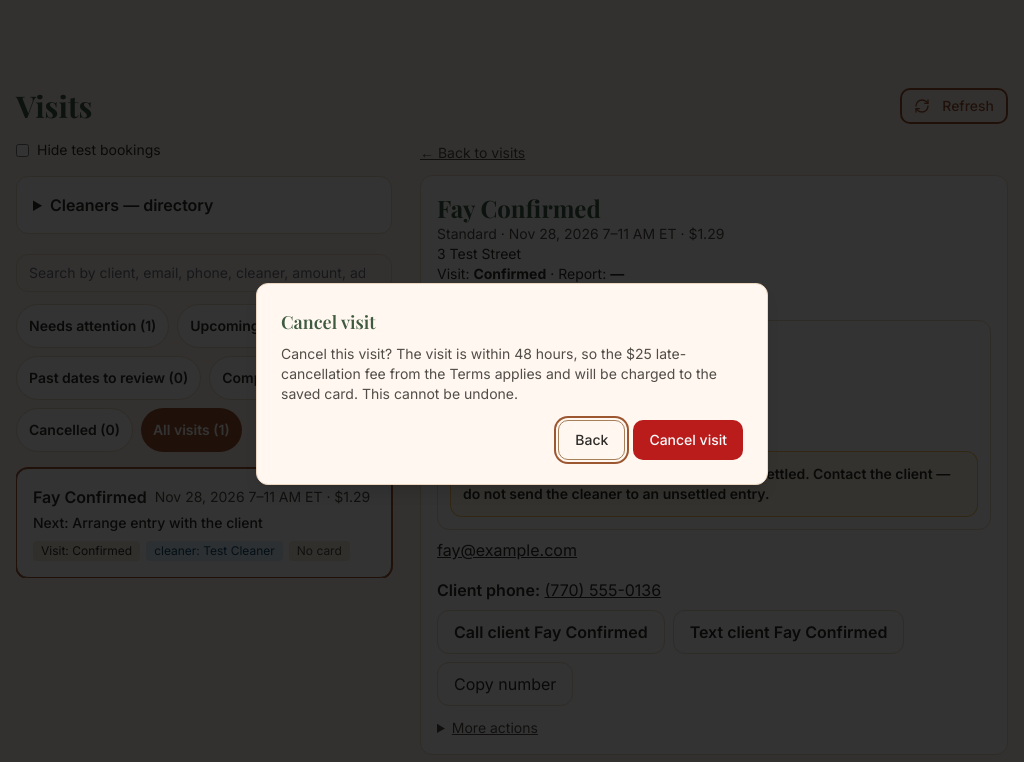
Scenario: owner cancel visit dialog › shows the $25 late fee inside 48 hours before confirming
Earlier steps of the test are not shown.
Expected: the text "$25 late-cancellation fee" is shown, top-left (281, 345), bottom-right (717, 402)
Step 1. Click the button "Cancel visit" → click(688, 440), box top-left (633, 420), bottom-right (743, 460)
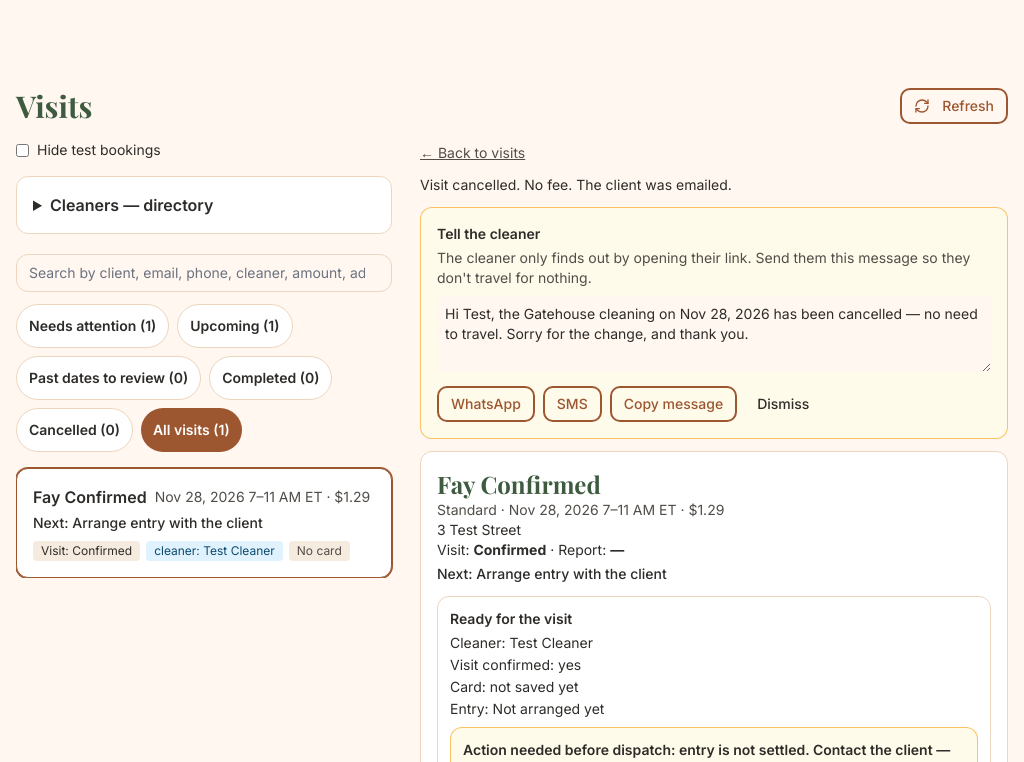
Expected: the text "Visit cancelled. No fee. The client was emailed." is shown, top-left (420, 176), bottom-right (732, 193)
